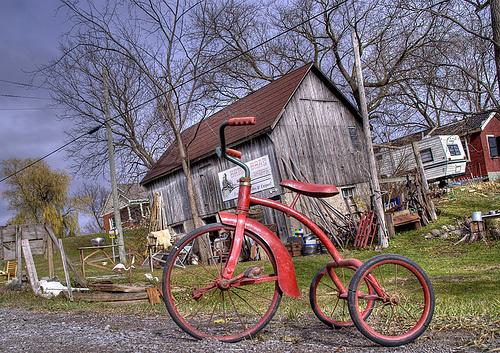car: (162, 116, 436, 350)
